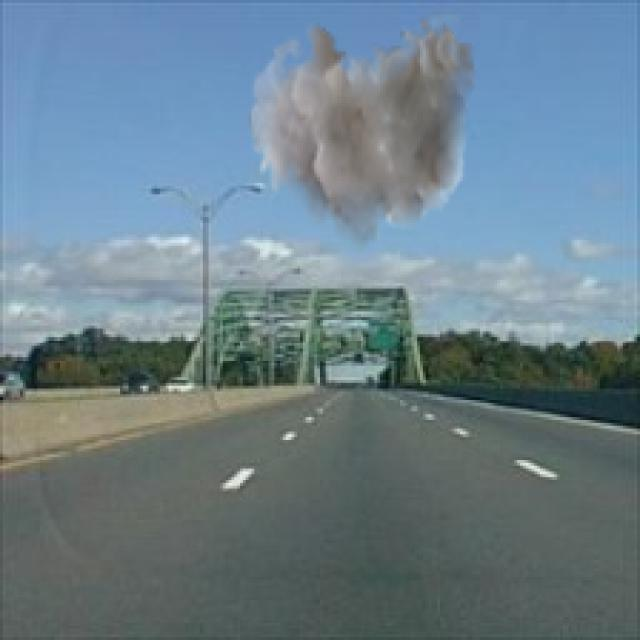smoke: (249, 17, 477, 257)
